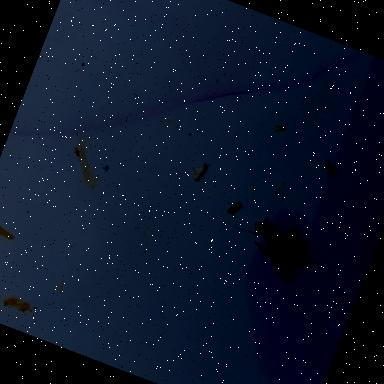pbw: (317, 157, 341, 181), (224, 197, 246, 221)
